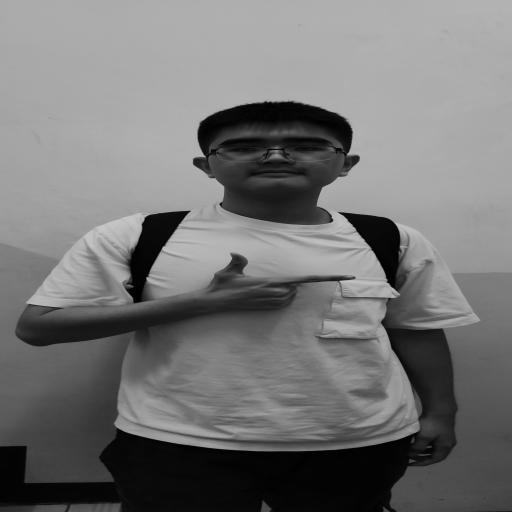next: (184, 247, 374, 326)
